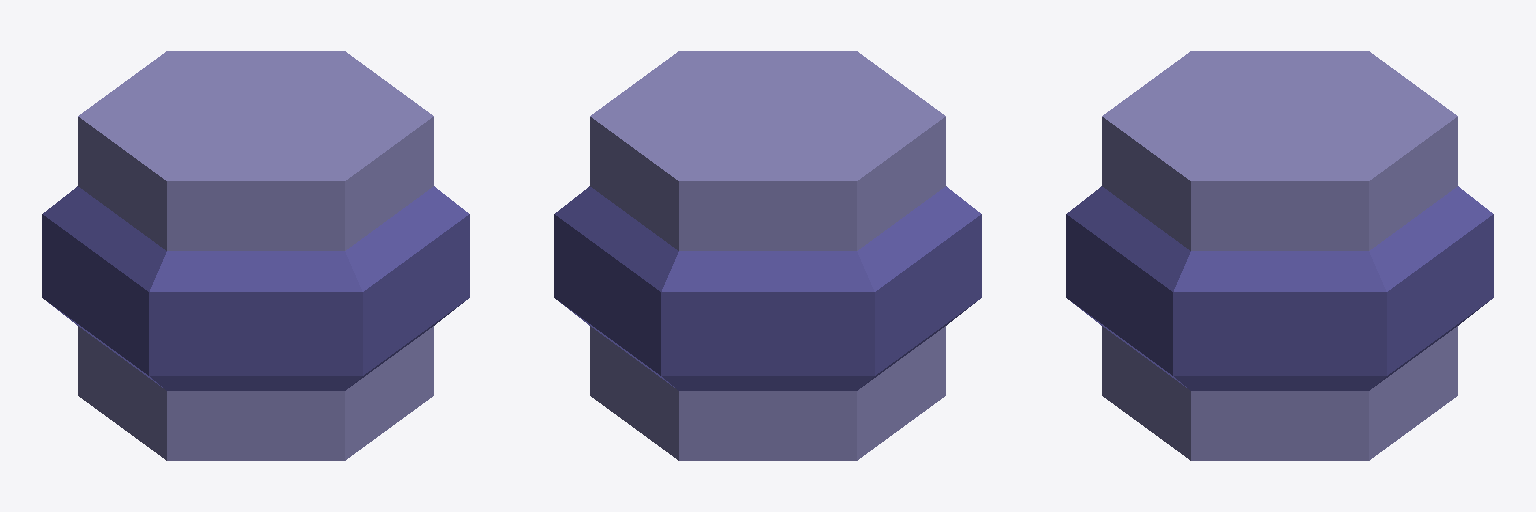
File: Comb.obj
The picture shows the model from 3 angles: view 1: azimuth 30°, elevation 25°; view 2: azimuth 150°, elevation 25°; view 3: azimuth 270°, elevation 25°; orthographic projection.
Parts seen in each view (by area): view 1: mergedBlocks; view 2: mergedBlocks; view 3: mergedBlocks.
Boxes of the visible parts, <box> form: mergedBlocks: <box>42,51,469,460</box>; mergedBlocks: <box>554,51,981,460</box>; mergedBlocks: <box>1066,51,1493,460</box>.
Bounding box in the file's own units: 1.2 × 1 × 1.39.